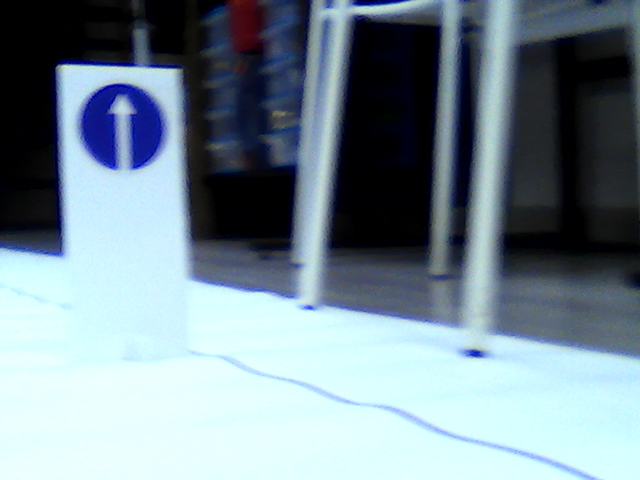forw: (78, 84, 168, 177)
